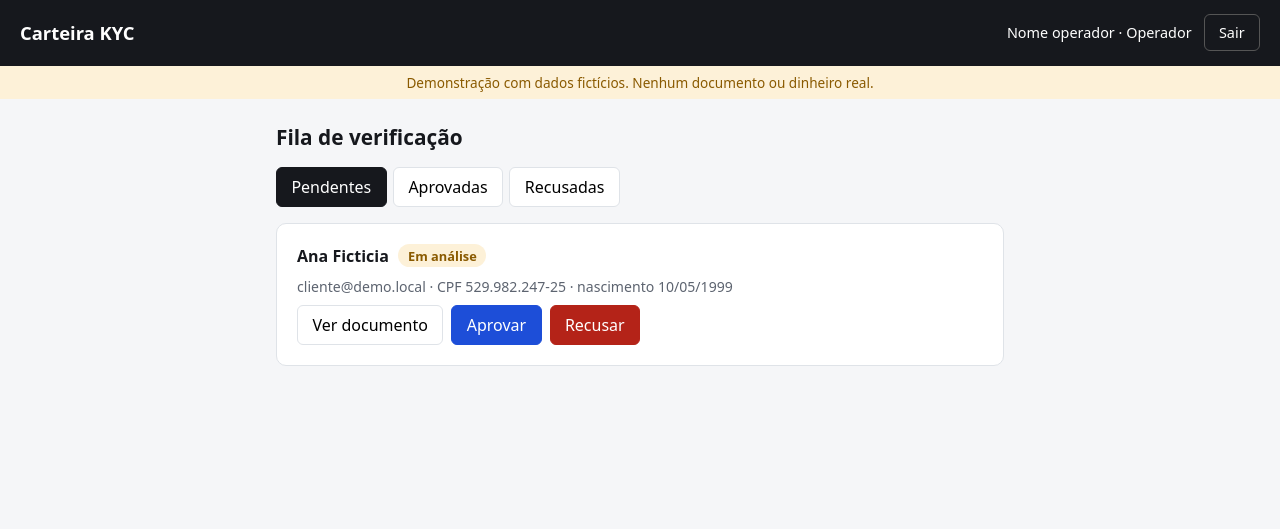
Test: operador › recusar exige motivo e envia o motivo digitado
Click the button "Recusar". click: (595, 325)
box: x1=550 y1=305 x2=640 y2=345
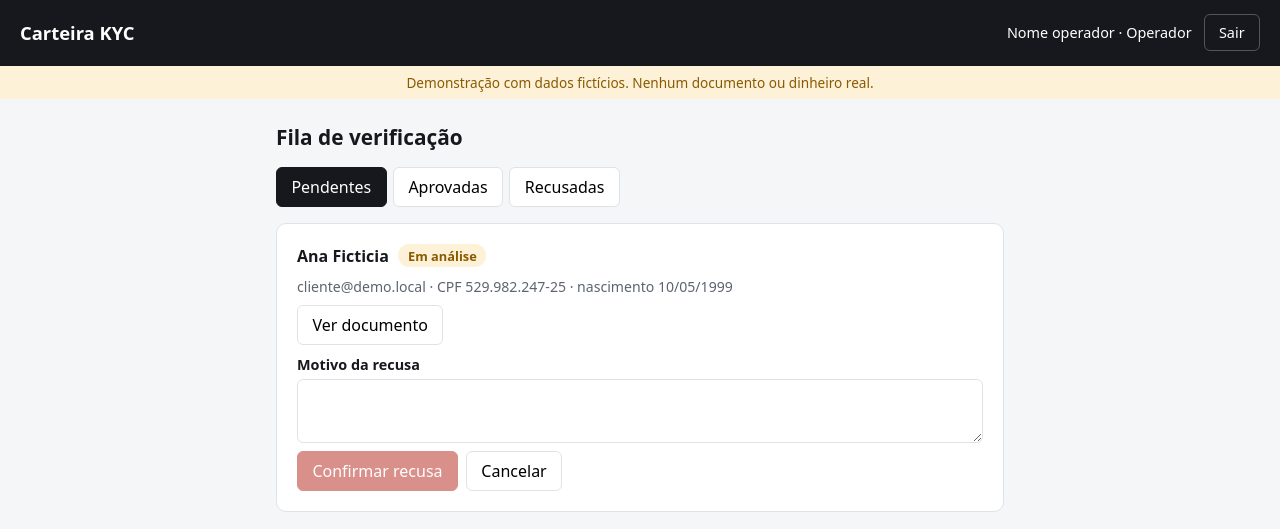
Result: the button "Confirmar recusa" is disabled at x1=297 y1=450 x2=458 y2=490
Type "documento vencido" into the text box labelled "Motivo da recusa". click: (640, 410)
box: x1=297 y1=378 x2=983 y2=442
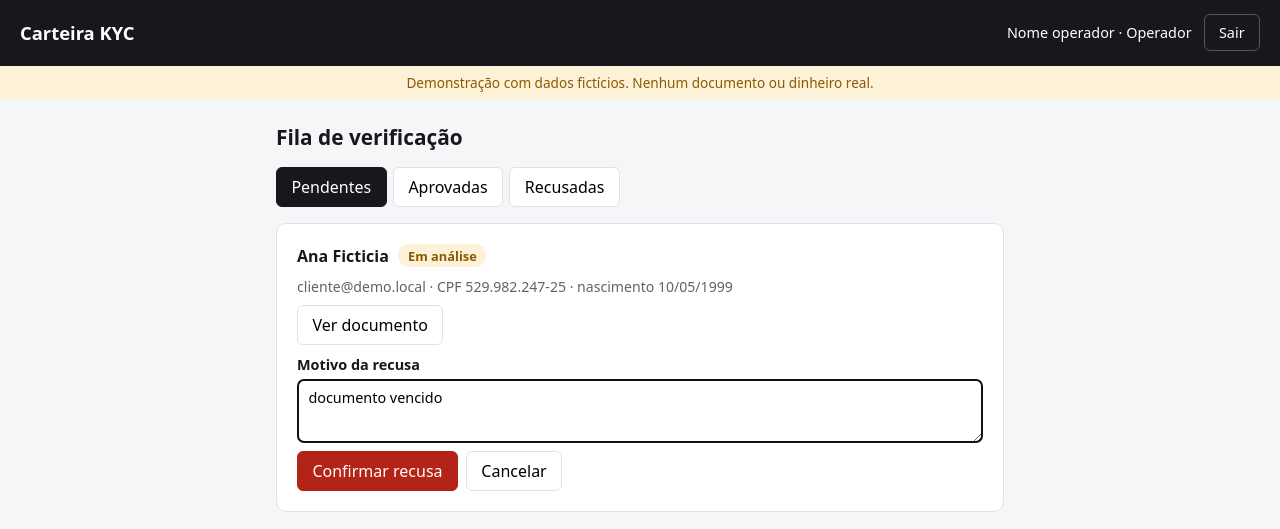
Click the button "Confirmar recusa". click: (377, 470)
box: x1=297 y1=450 x2=458 y2=490
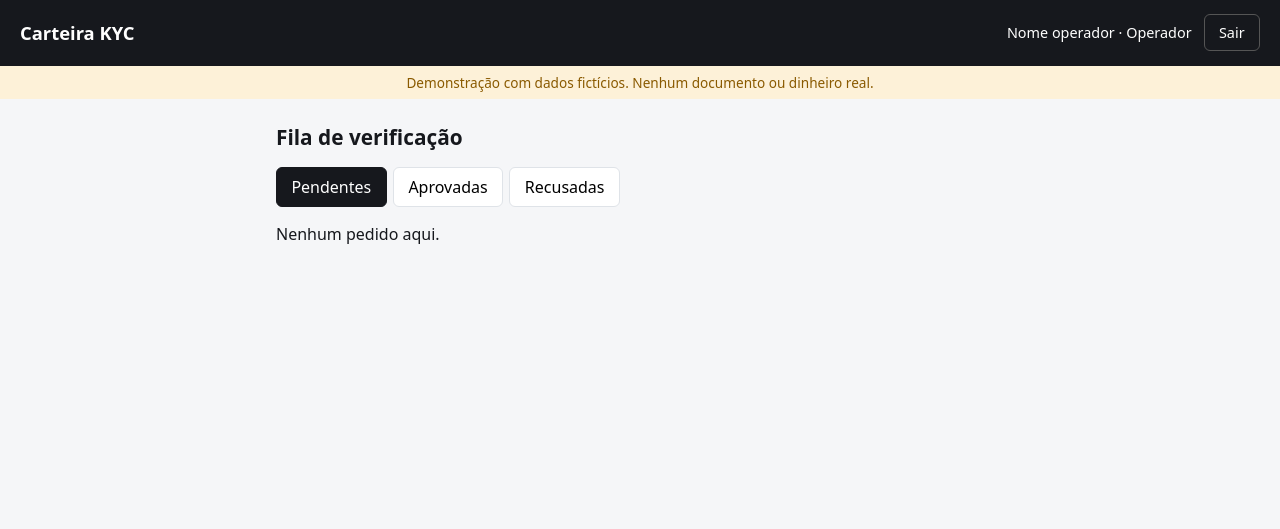
Result: the text "Nenhum pedido aqui." is shown at x1=276 y1=223 x2=440 y2=245
